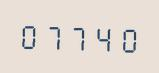four: (90, 20, 113, 54)
seven: (42, 18, 65, 52), (66, 19, 89, 53)
zero: (18, 17, 41, 51), (114, 21, 137, 55)
